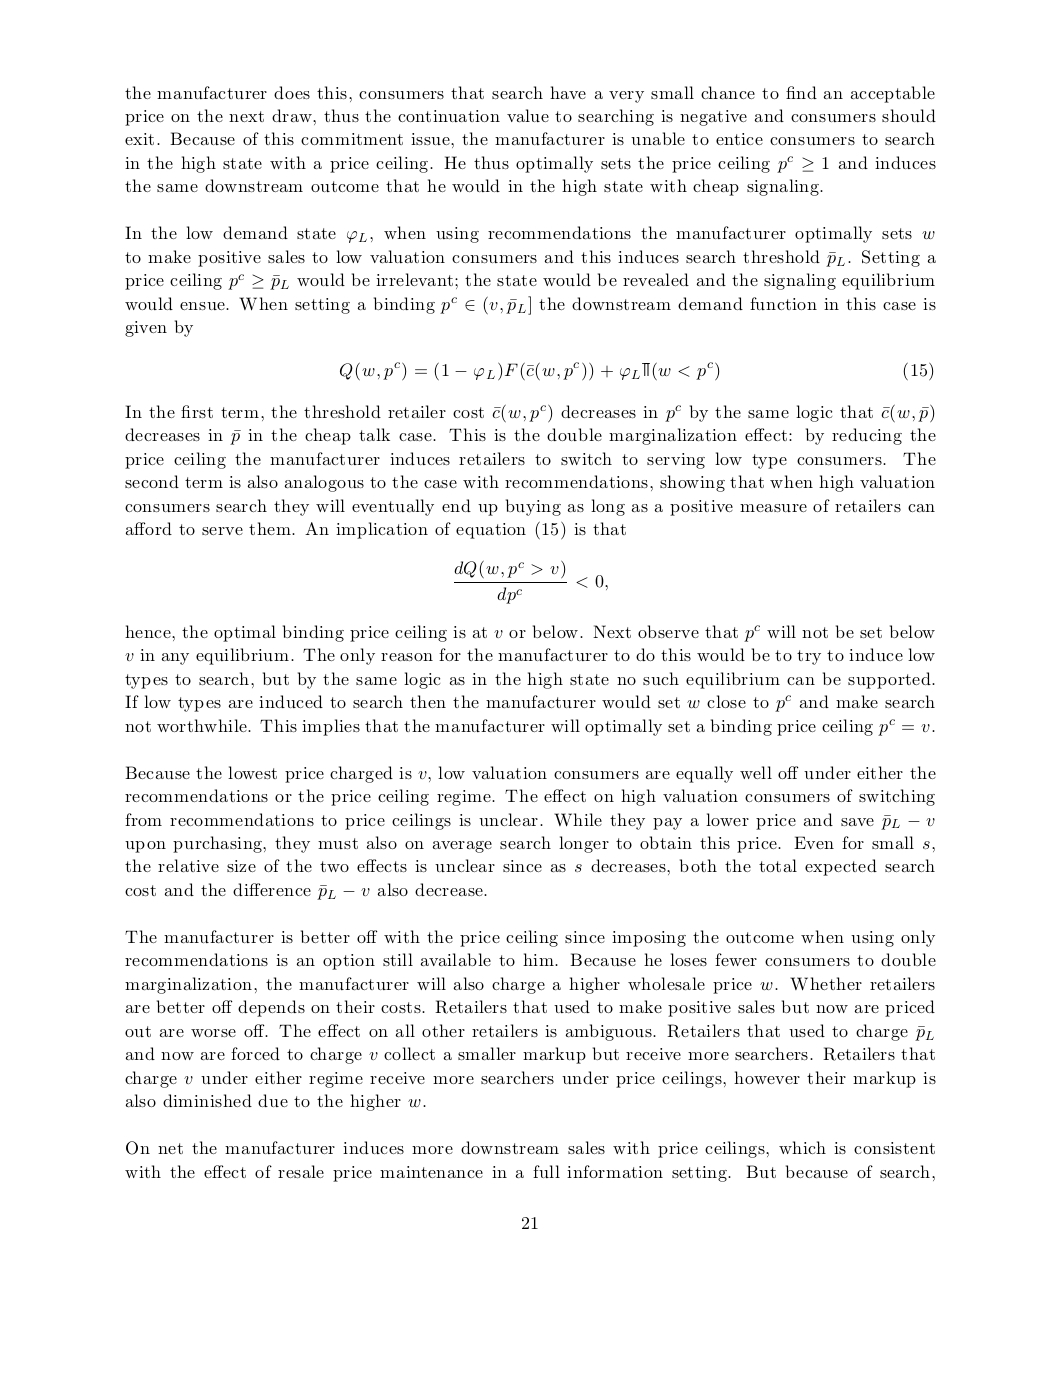formula: (339, 361, 933, 381), (454, 559, 607, 604)
